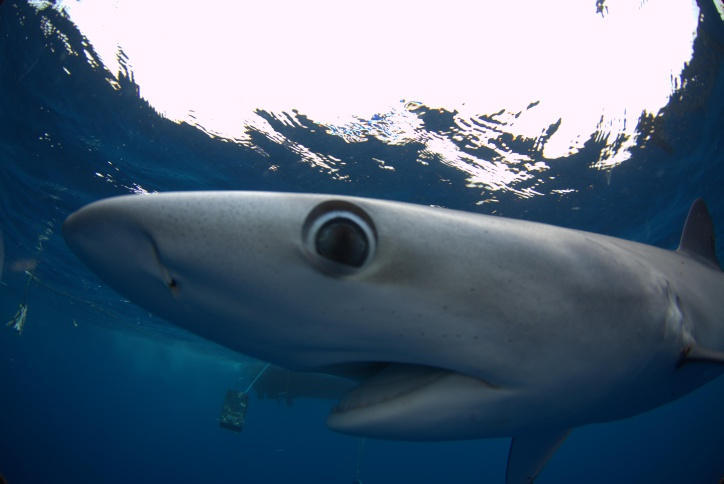Azul: (45, 121, 724, 479)
